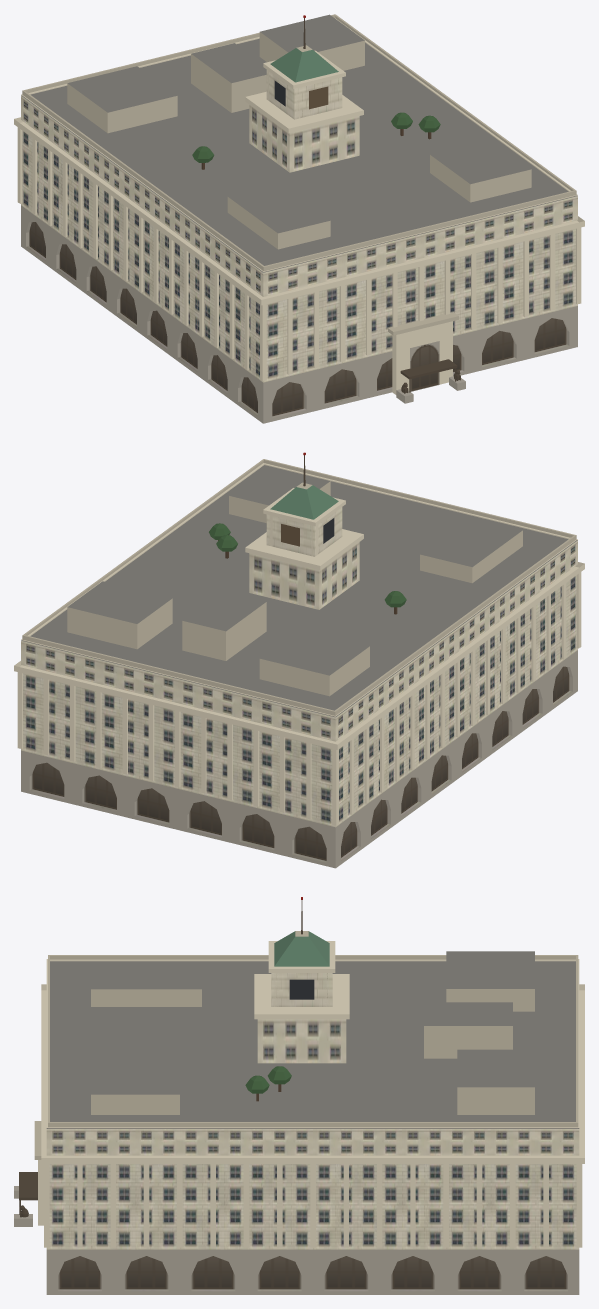
The model's file is mitsukoshi_nihonbashi.glb.
3 renders of one model, top to bottom at view 1: azimuth 30°, elevation 25°; view 2: azimuth 150°, elevation 25°; view 3: azimuth 270°, elevation 25°, orthographic. The views are drawn at different scales.
Parts seen in each view (by area): view 1: mitsukoshi_nihonbashi; view 2: mitsukoshi_nihonbashi; view 3: mitsukoshi_nihonbashi.
Part boxes in pixels (x1=…): mitsukoshi_nihonbashi: x1=14, y1=14, x2=584, y2=423; mitsukoshi_nihonbashi: x1=14, y1=452, x2=584, y2=868; mitsukoshi_nihonbashi: x1=14, y1=897, x2=584, y2=1294.
Size of the model in its own units: 74.01 by 62.2 by 103.
2 materials, 2 textured.
